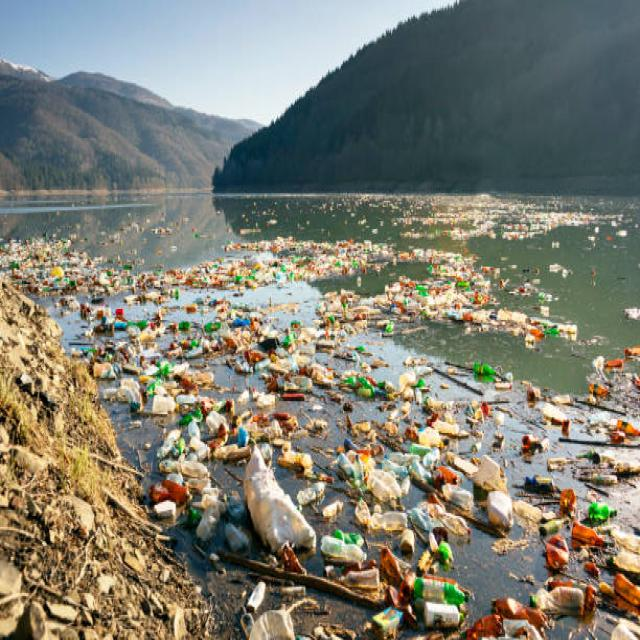garbage: (81, 327, 640, 632), (168, 225, 501, 297), (0, 227, 152, 303)
